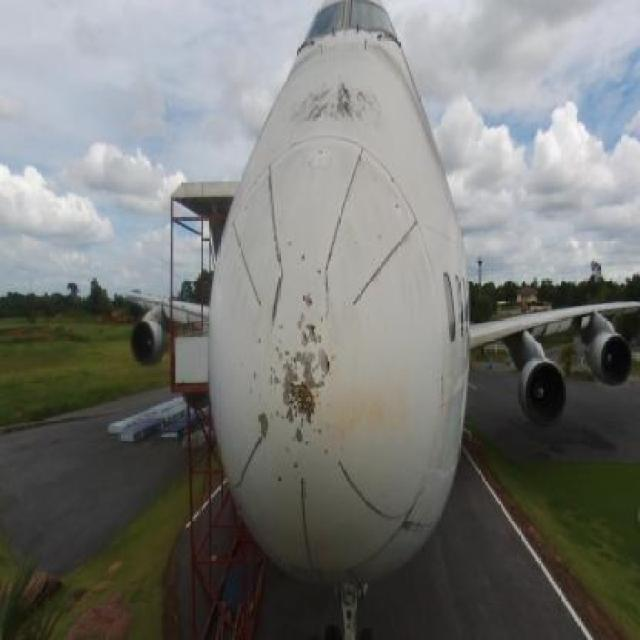Rust: (329, 380, 413, 445), (292, 81, 380, 134), (282, 371, 324, 424)
Scartch: (266, 333, 339, 430), (257, 391, 278, 449), (402, 509, 420, 540)
